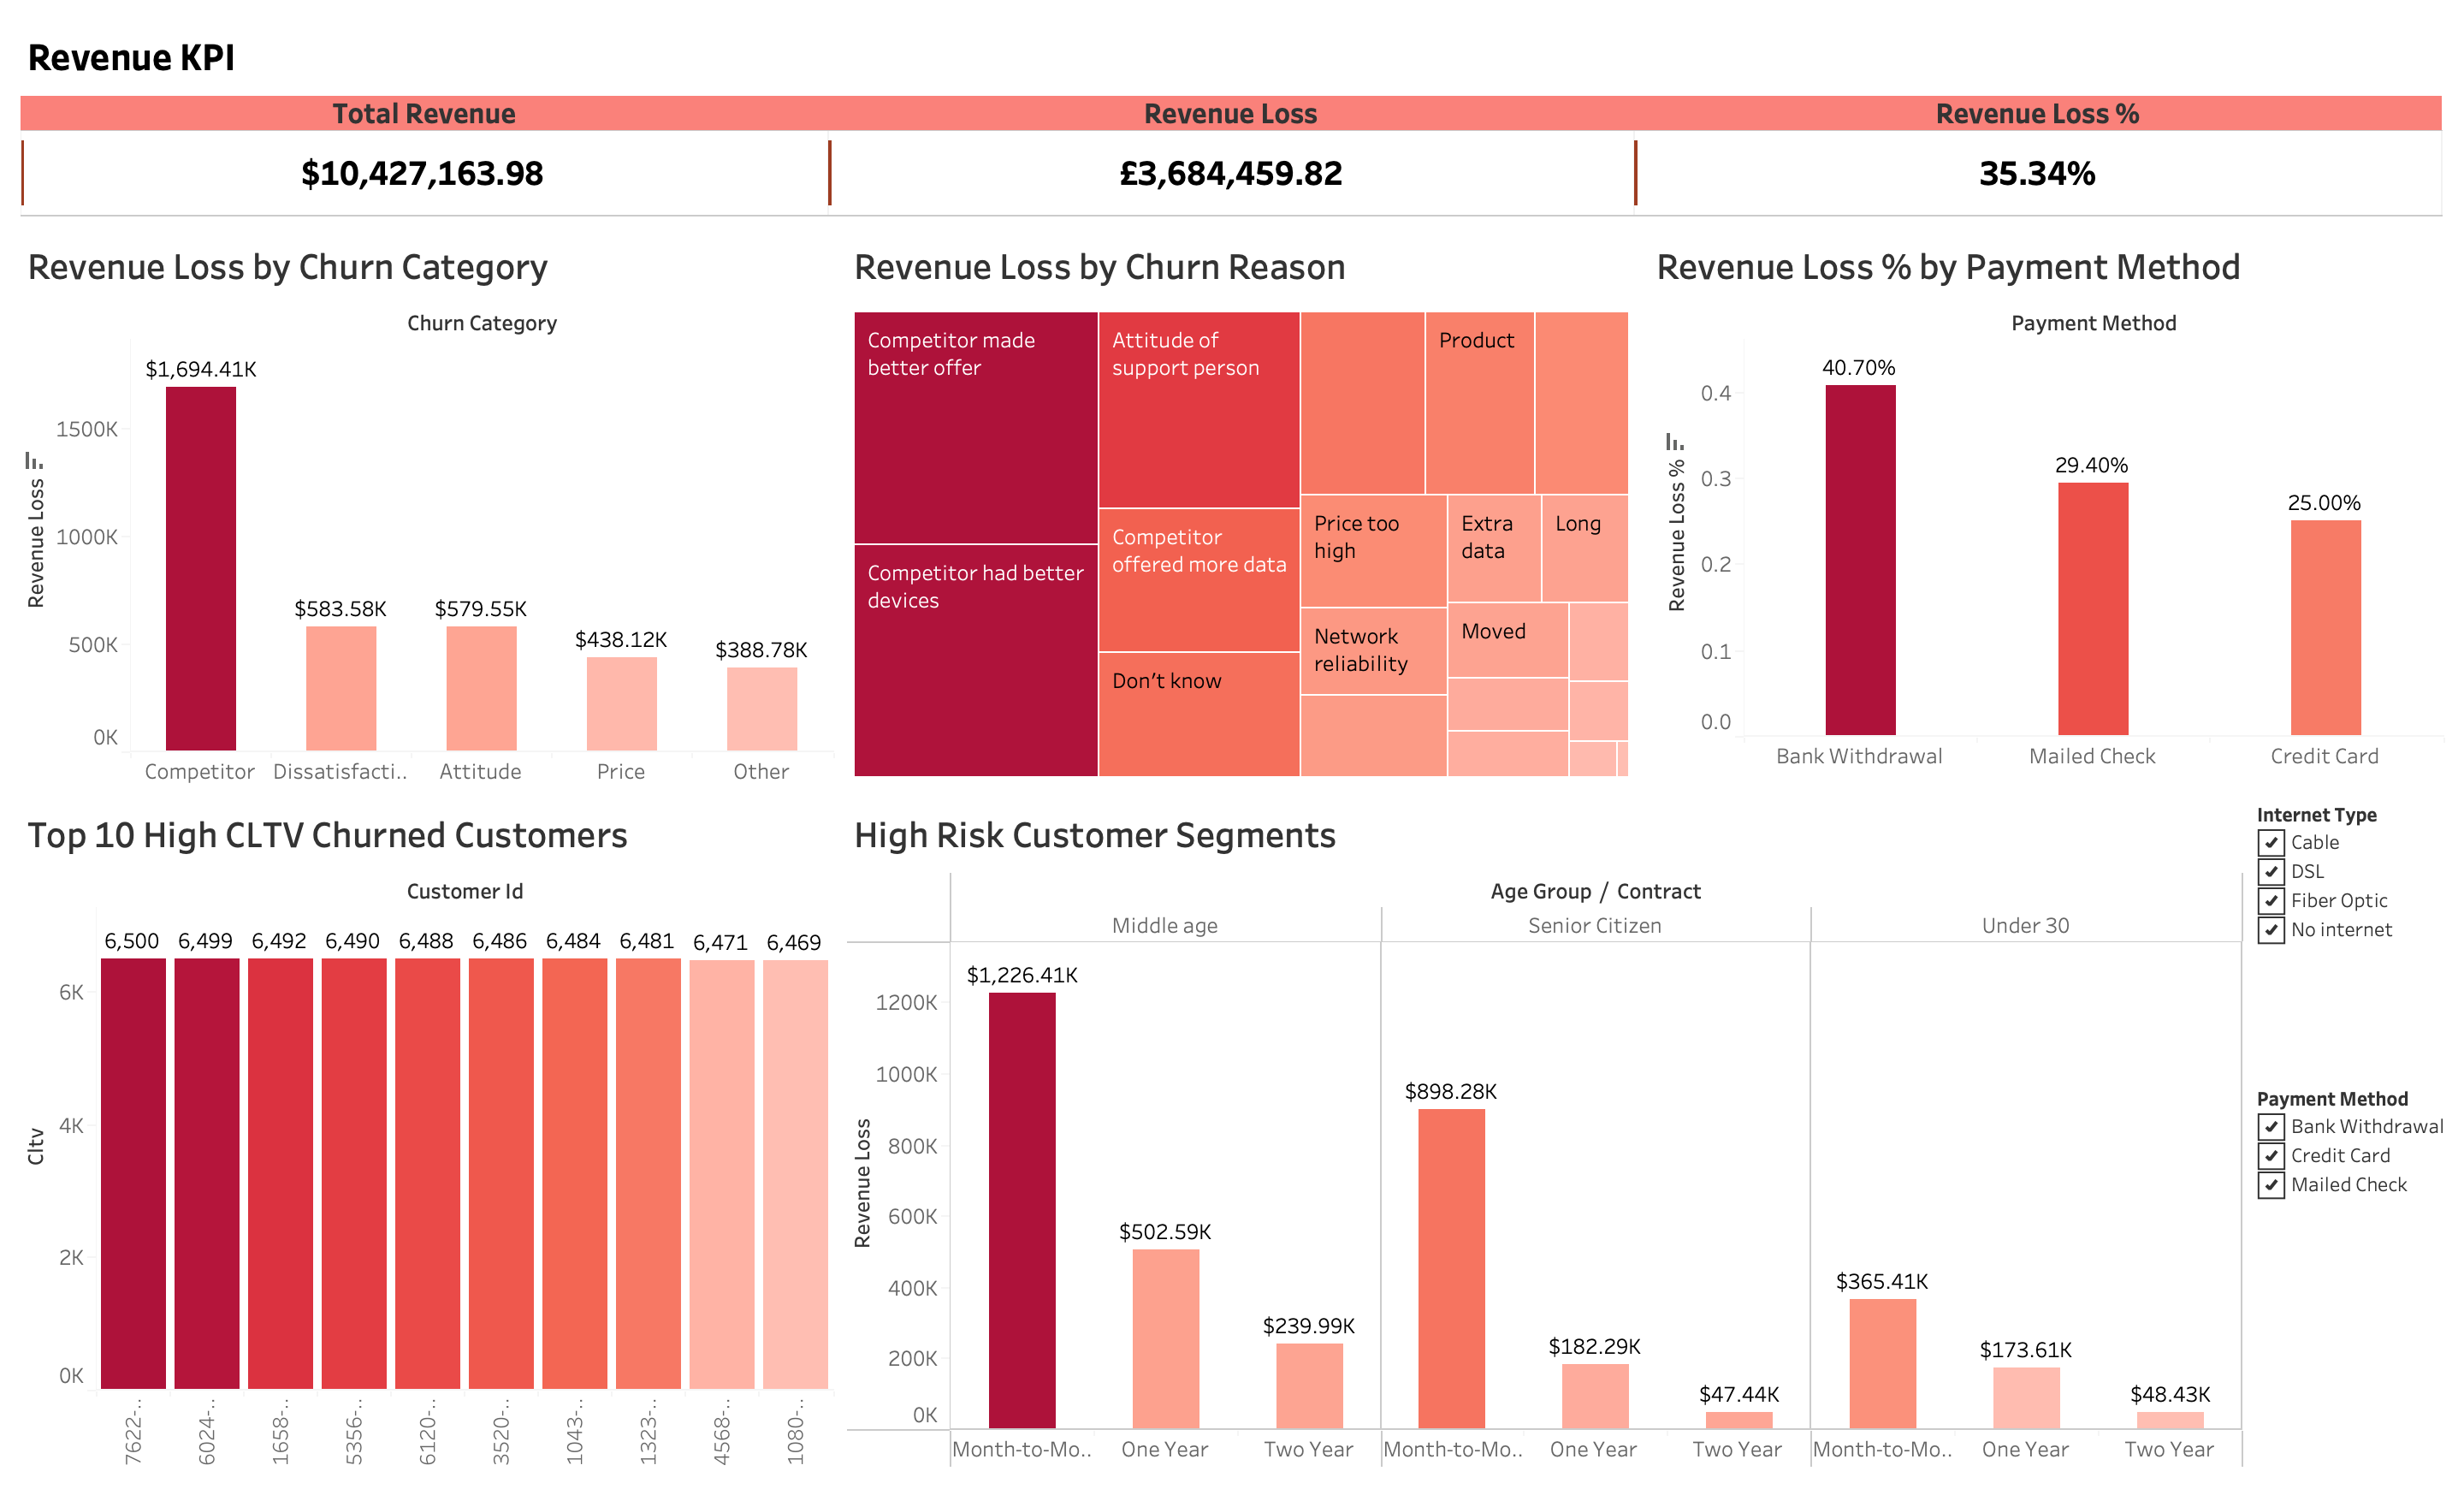

Layout of this report page (visuals, bound fields, positions):
{"tool":"tableau","page":{"name":"Revenue Impact of Customer Churn","canvas":[1000,1000],"units":"permille","ordinal":1},"visuals":[{"type":"worksheet","title":"Revenue KPI","mark":"Bar","box":[6.5,9.9,987,140.9]},{"type":"worksheet","title":"Revenue Loss by Churn Category","mark":"Bar","rows":["Calculation_0313504001212418"],"cols":["churn_category"],"box":[6.5,150.8,334.7,381.1]},{"type":"worksheet","title":"Revenue Loss by Churn Reason","mark":"Automatic","box":[341.2,150.8,324.8,381.1]},{"type":"worksheet","title":"Revenue Loss % by Payment Method","mark":"Automatic","rows":["Calculation_0313504001081345"],"cols":["payment_method"],"box":[666,150.8,327.5,381.1]},{"type":"worksheet","title":"Top 10 High CLTV Churned Customers","mark":"Bar","rows":["cltv"],"cols":["customer_id"],"box":[6.5,531.9,334.6,458.2]},{"type":"worksheet","title":"High Risk Customer Segments","mark":"Automatic","rows":["Calculation_0313504001212418"],"cols":["age_group","contract"],"box":[341.1,531.9,571.2,458.2]},{"type":"filter","title":"High Risk Customer Segments","param":"[federated.11wy8re0llgazr1g6ryp808y5rb2].[none:internet_type:nk]","box":[912.3,531.9,81.2,190.7]},{"type":"filter","title":"High Risk Customer Segments","param":"[federated.11wy8re0llgazr1g6ryp808y5rb2].[none:payment_method:nk]","box":[912.3,722.6,81.2,267.5]}]}

Visuals, with their boxes on the dashboard's canvas, which has no fixed pixel size, in thousandths of its width and height (x1, y1, x2, y2). These are canvas units, not pixel positions in the 2464x1489 screenshot, which may show the page scaled, cropped or inside an application window:
"Revenue KPI" worksheet (Bar marks): 6,10,994,151
"Revenue Loss by Churn Category" worksheet (Bar marks): 6,151,341,532
"Revenue Loss by Churn Reason" worksheet: 341,151,666,532
"Revenue Loss % by Payment Method" worksheet: 666,151,994,532
"Top 10 High CLTV Churned Customers" worksheet (Bar marks): 6,532,341,990
"High Risk Customer Segments" worksheet: 341,532,912,990
"High Risk Customer Segments" filter: 912,532,994,723
"High Risk Customer Segments" filter: 912,723,994,990
